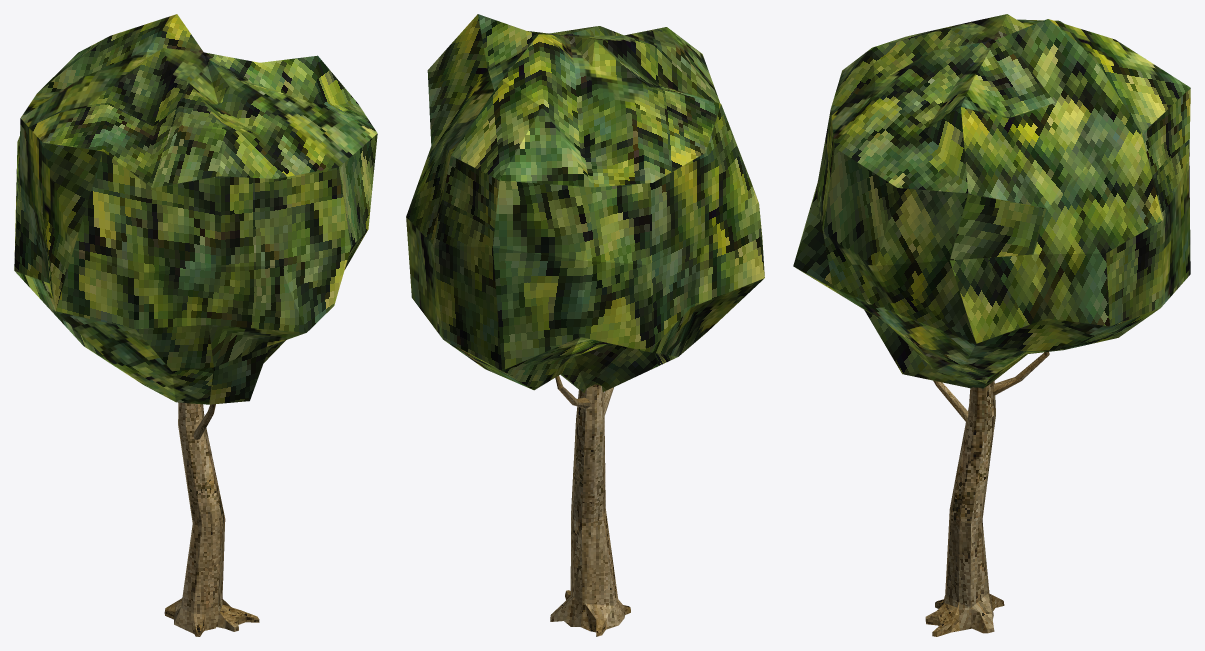
Rendered from leafy_tree_2.gltf.
The picture shows the model from 3 angles, left to right: view 1: azimuth 30°, elevation 25°; view 2: azimuth 150°, elevation 25°; view 3: azimuth 270°, elevation 25°; orthographic projection. The views are drawn at different scales.
Parts seen in each view (by area): view 1: Leaves, Trunk-col; view 2: Leaves, Trunk-col; view 3: Leaves, Trunk-col.
Part boxes in pixels (x1,y1,x2,y2): Leaves: [14, 14, 377, 404]; Trunk-col: [164, 402, 259, 636]; Leaves: [406, 14, 764, 393]; Trunk-col: [550, 384, 630, 636]; Leaves: [793, 14, 1190, 388]; Trunk-col: [925, 381, 1004, 636].
Bounding box in the file's own units: 5.32 × 9.47 × 5.63.
Materials: 2 (2 with a texture image).
